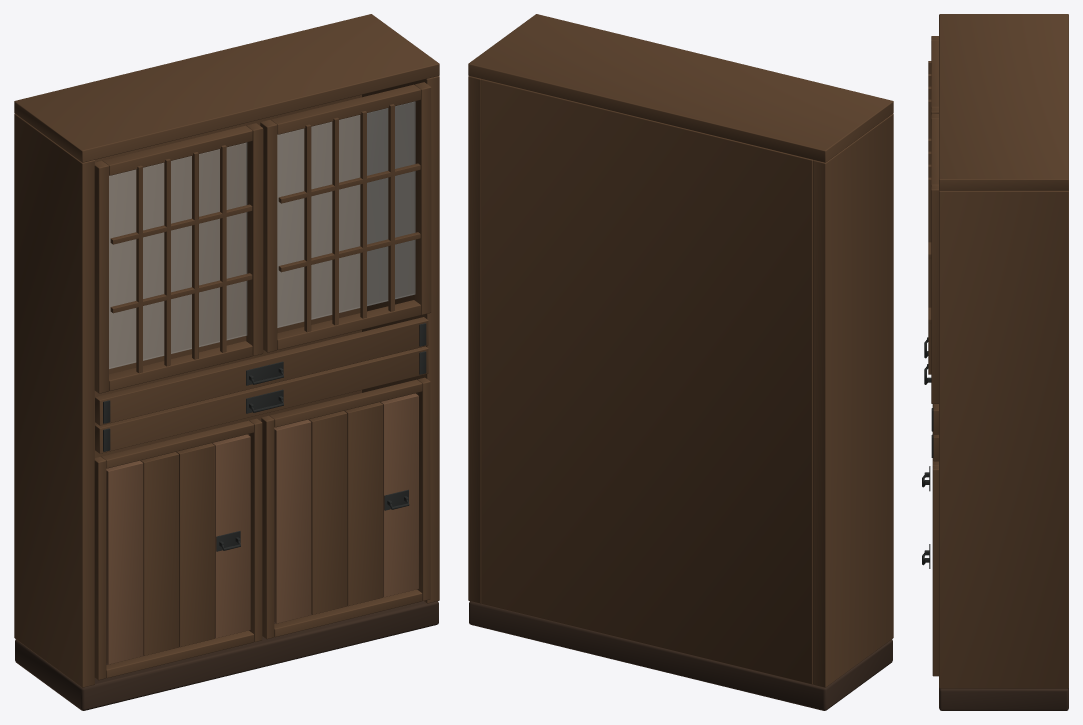
File: kominka-mizuya-01.glb
The picture shows the model from 3 angles, left to right: view 1: azimuth 30°, elevation 25°; view 2: azimuth 150°, elevation 25°; view 3: azimuth 270°, elevation 25°; orthographic projection. The views are drawn at different scales.
Parts seen in each view (by area): view 1: kominka-mizuya-01; view 2: kominka-mizuya-01; view 3: kominka-mizuya-01.
Part boxes in pixels (x1,y1,x2,y2): kominka-mizuya-01: [14, 14, 439, 710]; kominka-mizuya-01: [468, 14, 893, 710]; kominka-mizuya-01: [922, 14, 1068, 710].
Size of the model in its own units: 1.2 by 1.8 by 0.45.
